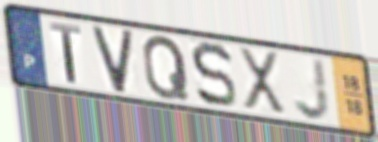J: (292, 56, 333, 123)
Q: (141, 33, 192, 101)
S: (188, 40, 239, 111)
T: (47, 19, 83, 86)
V: (89, 24, 136, 97)
X: (236, 44, 289, 119)
